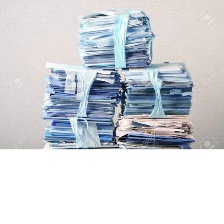book: (37, 59, 125, 152), (112, 57, 197, 152), (72, 4, 154, 70)
